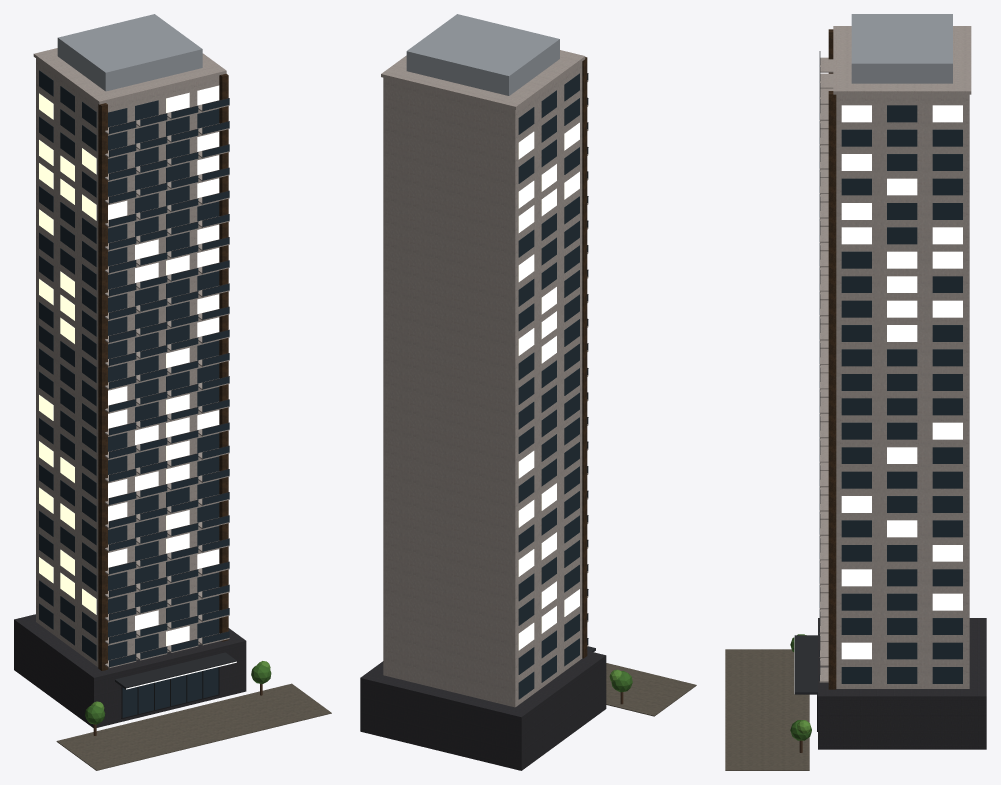
The model's file is OT_Skyscraper_Residential.glb.
3 renders of one model, left to right at view 1: azimuth 30°, elevation 25°; view 2: azimuth 150°, elevation 25°; view 3: azimuth 270°, elevation 25°, orthographic. The views are drawn at different scales.
Visible parts, largest first — view 1: OT_Skyscraper_Residential_Glass__22303a, OT_Skyscraper_Residential_Stucco, OT_Skyscraper_Residential_InteriorWarm__ffdca8, OT_Skyscraper_Residential_Pavement, OT_Skyscraper_Residential_Granite, OT_Skyscraper_Residential_Wood, OT_Skyscraper_Residential_SteelGrey__9aa0a6, OT_Skyscraper_Residential_Railing__2a2c30, OT_Skyscraper_Residential_CanopyDark__2a2c30, OT_Skyscraper_Residential_Leaf__3f6e2c; view 2: OT_Skyscraper_Residential_Stucco, OT_Skyscraper_Residential_Granite, OT_Skyscraper_Residential_Glass__22303a, OT_Skyscraper_Residential_SteelGrey__9aa0a6, OT_Skyscraper_Residential_InteriorWarm__ffdca8, OT_Skyscraper_Residential_Wood, OT_Skyscraper_Residential_Pavement; view 3: OT_Skyscraper_Residential_Stucco, OT_Skyscraper_Residential_Glass__22303a, OT_Skyscraper_Residential_Granite, OT_Skyscraper_Residential_InteriorWarm__ffdca8, OT_Skyscraper_Residential_Pavement, OT_Skyscraper_Residential_SteelGrey__9aa0a6, OT_Skyscraper_Residential_Wood, OT_Skyscraper_Residential_CanopyDark__2a2c30, OT_Skyscraper_Residential_Railing__2a2c30.
Part boxes in pixels (bbox=[...]): OT_Skyscraper_Residential_Glass__22303a: bbox=[39, 70, 229, 717]; OT_Skyscraper_Residential_Stucco: bbox=[33, 48, 229, 668]; OT_Skyscraper_Residential_InteriorWarm__ffdca8: bbox=[39, 85, 219, 646]; OT_Skyscraper_Residential_Pavement: bbox=[56, 683, 331, 770]; OT_Skyscraper_Residential_Granite: bbox=[14, 614, 246, 727]; OT_Skyscraper_Residential_Wood: bbox=[98, 73, 228, 670]; OT_Skyscraper_Residential_SteelGrey__9aa0a6: bbox=[57, 14, 202, 91]; OT_Skyscraper_Residential_Railing__2a2c30: bbox=[109, 98, 229, 660]; OT_Skyscraper_Residential_CanopyDark__2a2c30: bbox=[115, 652, 236, 689]; OT_Skyscraper_Residential_Leaf__3f6e2c: bbox=[85, 664, 271, 724]; OT_Skyscraper_Residential_Stucco: bbox=[381, 50, 588, 707]; OT_Skyscraper_Residential_Granite: bbox=[360, 651, 606, 770]; OT_Skyscraper_Residential_Glass__22303a: bbox=[518, 73, 588, 699]; OT_Skyscraper_Residential_SteelGrey__9aa0a6: bbox=[406, 14, 559, 95]; OT_Skyscraper_Residential_InteriorWarm__ffdca8: bbox=[518, 122, 579, 650]; OT_Skyscraper_Residential_Wood: bbox=[582, 57, 587, 658]; OT_Skyscraper_Residential_Pavement: bbox=[606, 663, 696, 716]; OT_Skyscraper_Residential_Stucco: bbox=[819, 26, 971, 688]; OT_Skyscraper_Residential_Glass__22303a: bbox=[819, 65, 962, 683]; OT_Skyscraper_Residential_Granite: bbox=[818, 618, 986, 749]; OT_Skyscraper_Residential_InteriorWarm__ffdca8: bbox=[841, 105, 962, 659]; OT_Skyscraper_Residential_Pavement: bbox=[725, 649, 809, 770]; OT_Skyscraper_Residential_SteelGrey__9aa0a6: bbox=[851, 14, 952, 83]; OT_Skyscraper_Residential_Wood: bbox=[828, 29, 836, 689]; OT_Skyscraper_Residential_CanopyDark__2a2c30: bbox=[794, 635, 817, 694]; OT_Skyscraper_Residential_Railing__2a2c30: bbox=[819, 51, 820, 674].
Size of the model in its own units: 34 by 88 by 31.
Materials: 14 (4 with a texture image).
